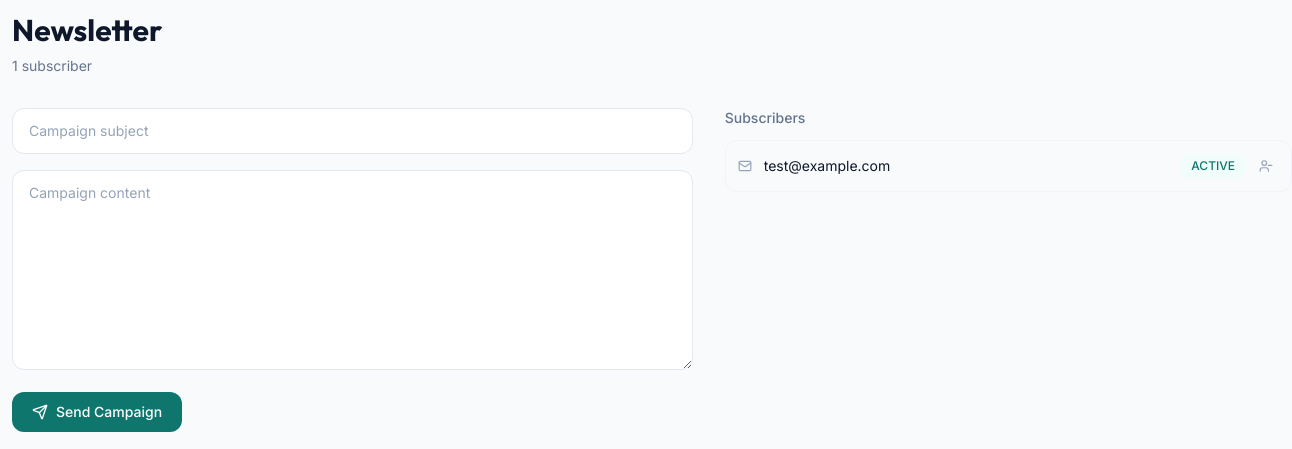
it: AdminNewsletterPage › unsubscribes user successfully
Expected: the text "test@example.com" is shown, left=764, top=156, right=890, bottom=176
What coordinates should you click on to do the following:
click the button titled "Unsubscribe user"
I would click on:
 (1266, 166)
Its box is left=1253, top=153, right=1279, bottom=179.
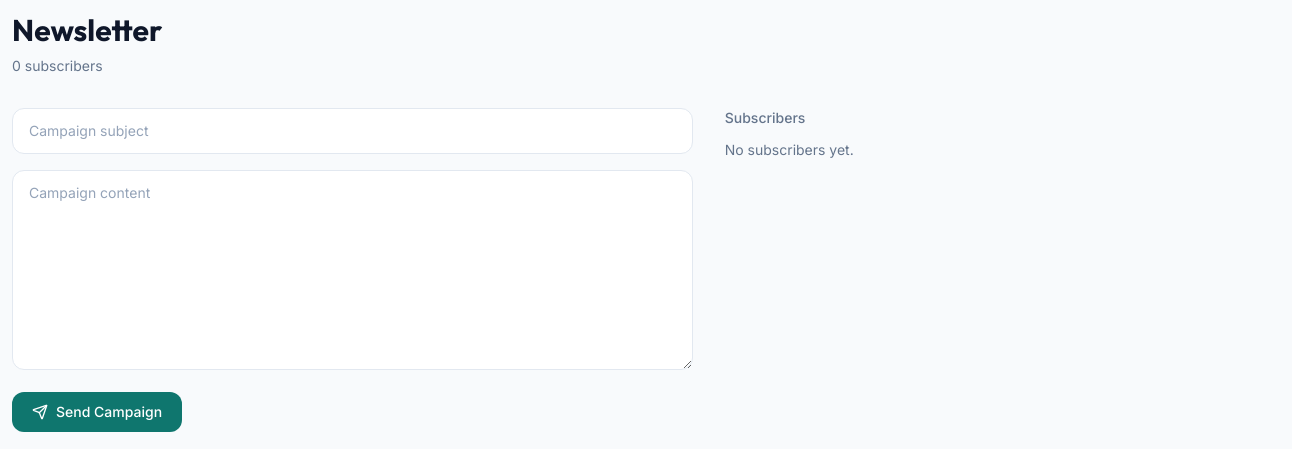
Now the text "test@example.com" is gone
